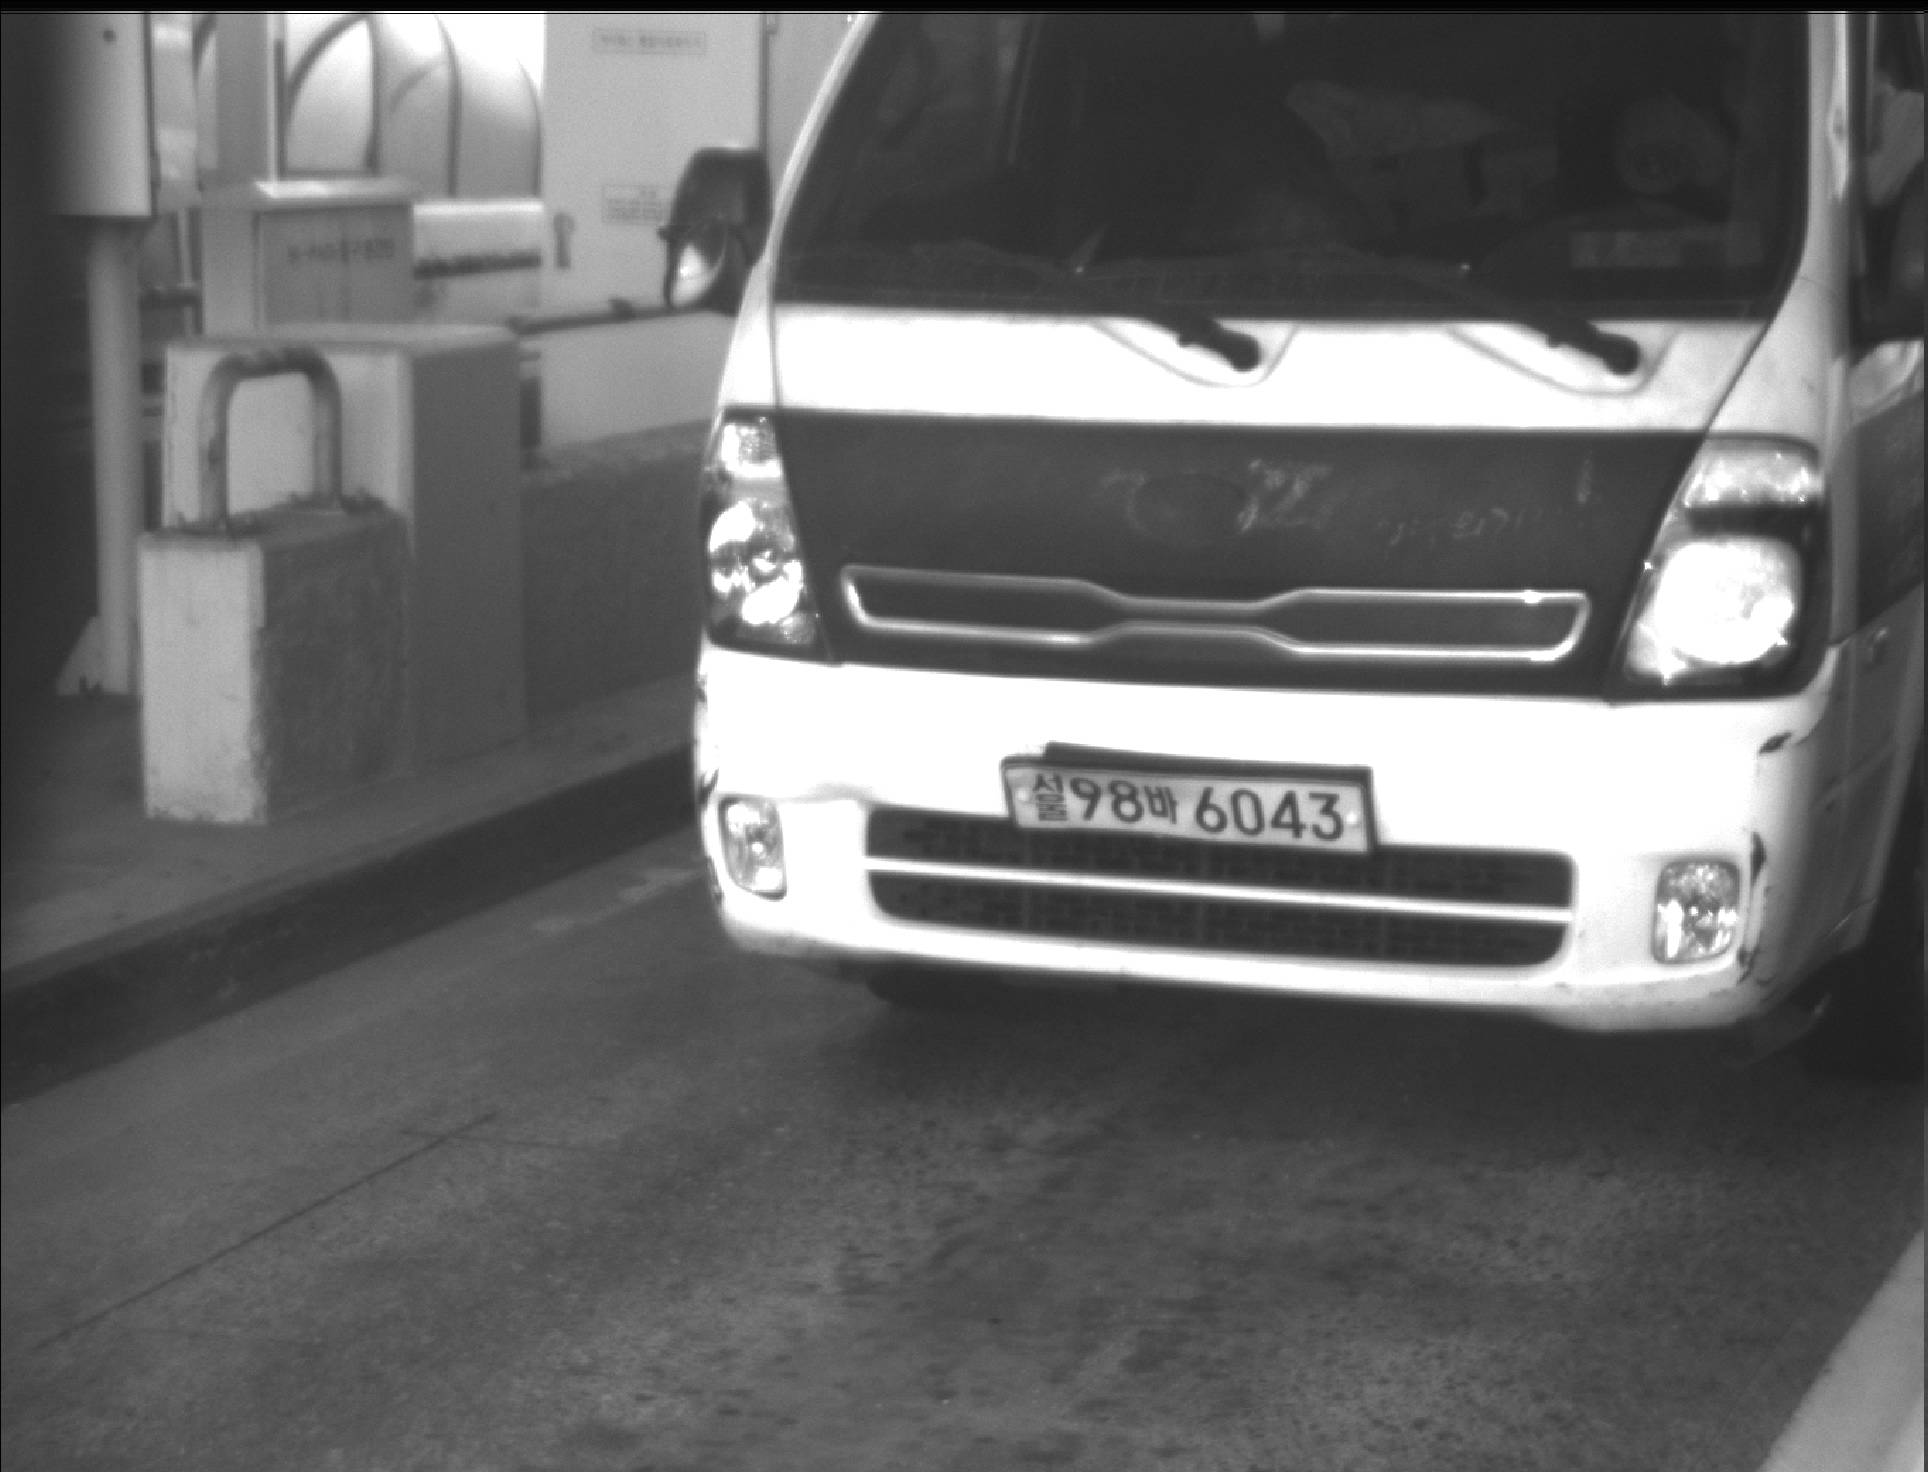car: (658, 1, 1926, 1060)
plate: (996, 753, 1386, 857)
